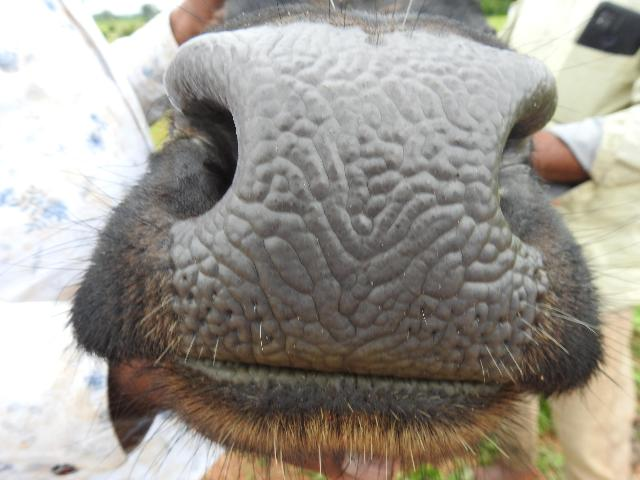Muzzle: (184, 46, 536, 372)
